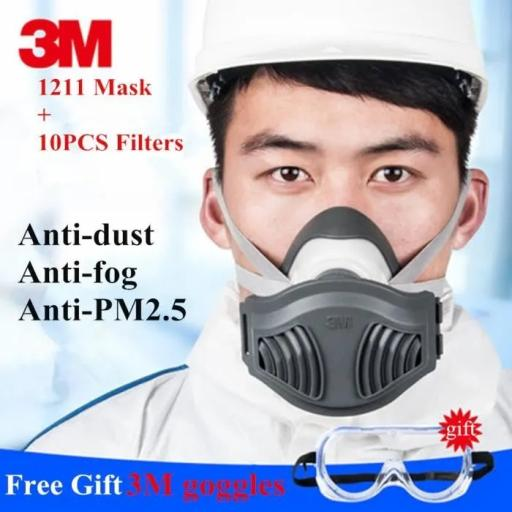mask: (208, 211, 466, 422)
